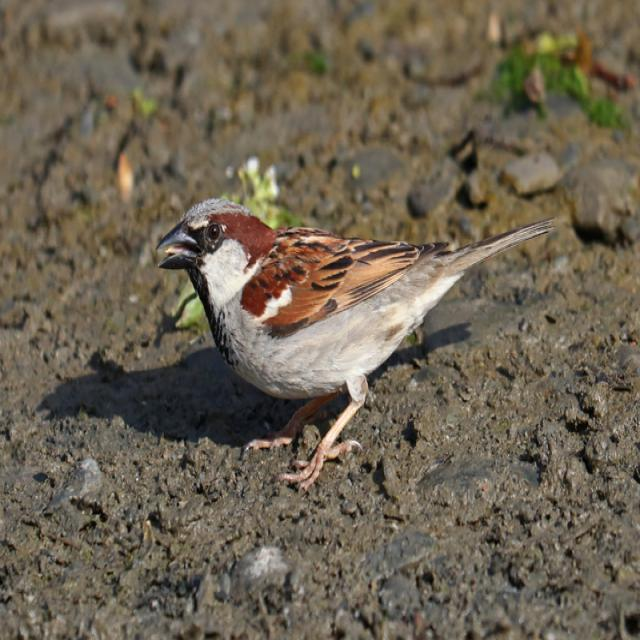bird: (155, 193, 569, 477)
